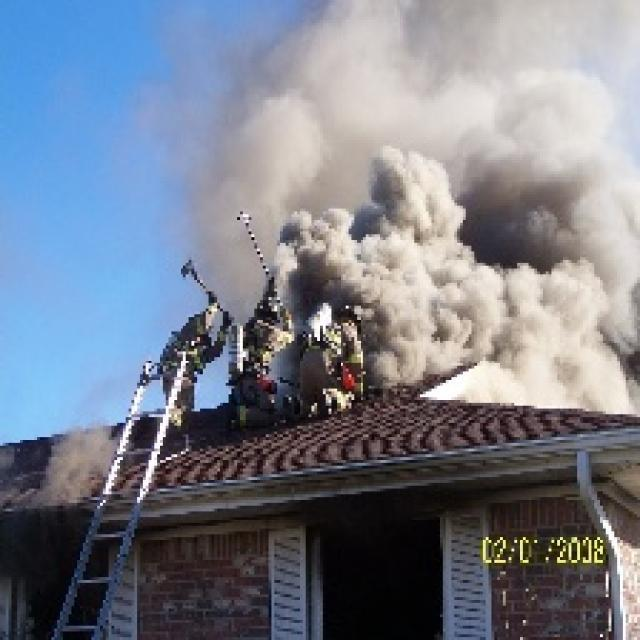Smoke: (192, 0, 637, 203), (278, 204, 640, 313), (375, 311, 640, 415)
